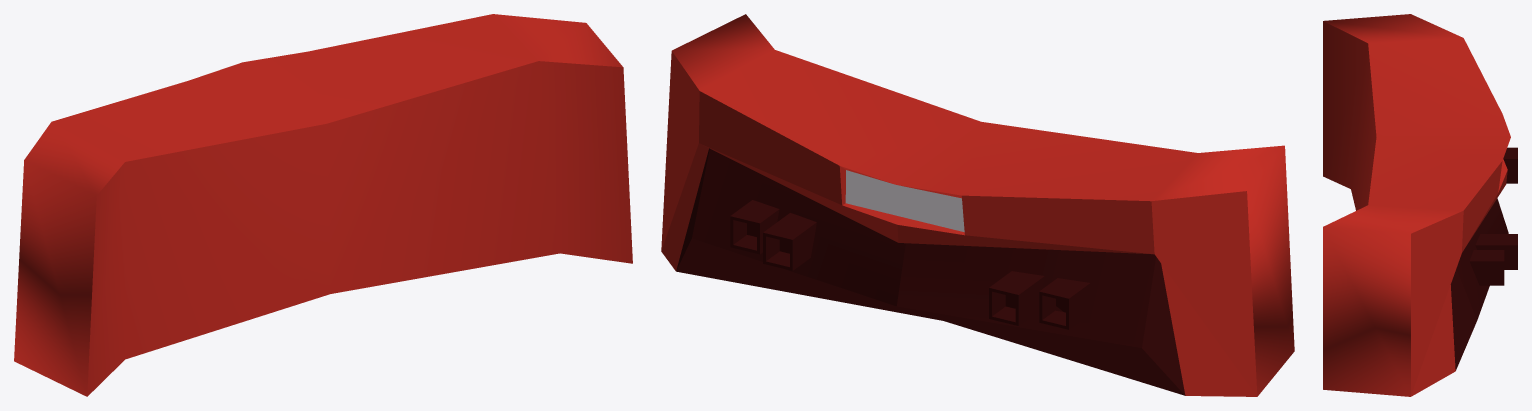
The model's file is bumper2.2.fbx.
The picture shows the model from 3 angles, left to right: view 1: azimuth 30°, elevation 25°; view 2: azimuth 150°, elevation 25°; view 3: azimuth 270°, elevation 25°; orthographic projection. The views are drawn at different scales.
Parts seen in each view (by area): view 1: bumper2; view 2: bumper2; view 3: bumper2.
Boxes of the visible parts, x1,y1,x2,y2 form: bumper2: [14, 14, 632, 396]; bumper2: [661, 14, 1294, 396]; bumper2: [1323, 14, 1517, 396].
Size of the model in its own units: 2.3 by 0.75 by 0.8324.
